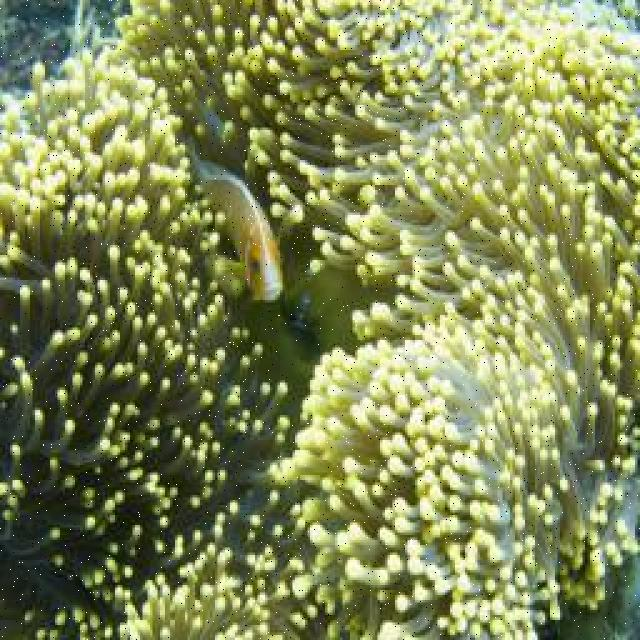fish: (192, 160, 285, 304)
reefs: (0, 0, 638, 638)
